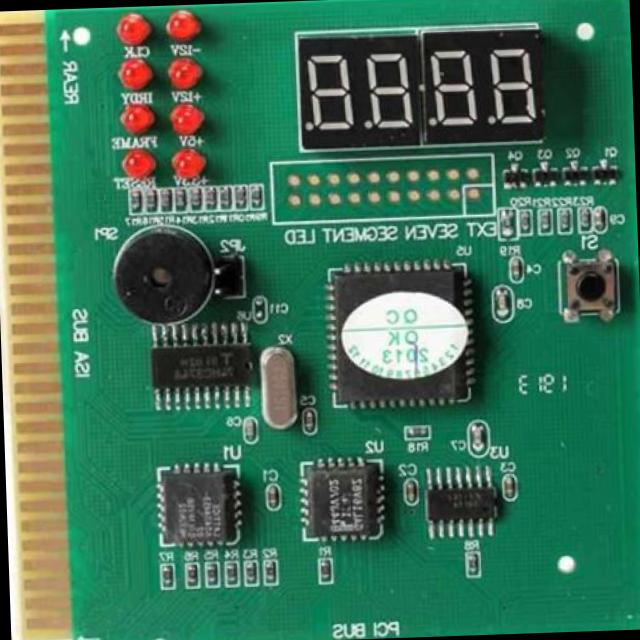IC: (328, 258, 470, 405), (147, 332, 249, 397), (303, 461, 382, 538), (157, 466, 237, 542), (426, 471, 496, 526)
LED: (418, 19, 546, 145), (294, 32, 423, 148), (116, 54, 153, 91), (119, 150, 158, 183), (170, 52, 202, 89), (116, 12, 152, 44), (166, 12, 201, 44), (170, 100, 203, 132), (122, 106, 151, 138), (172, 150, 202, 177)
capacitor: (496, 288, 510, 312), (510, 255, 524, 278), (244, 418, 258, 440), (472, 424, 483, 448), (268, 486, 278, 512), (304, 409, 314, 435), (592, 207, 605, 226), (503, 476, 512, 496), (406, 478, 414, 500)
resistor: (501, 212, 515, 235), (317, 560, 330, 584), (206, 562, 219, 586), (185, 564, 198, 588), (146, 186, 160, 208), (225, 563, 238, 585), (520, 210, 532, 233), (408, 422, 427, 436), (160, 567, 173, 587), (173, 188, 184, 210), (129, 190, 142, 208), (578, 205, 588, 228), (540, 209, 550, 232), (558, 209, 568, 231), (466, 552, 476, 574), (235, 184, 244, 206), (220, 188, 230, 207), (266, 560, 275, 580), (245, 564, 254, 584), (161, 188, 170, 208), (205, 187, 214, 206), (253, 186, 260, 208), (192, 188, 200, 206)
transistor: (592, 159, 618, 188), (563, 159, 587, 190), (532, 159, 558, 186), (504, 164, 525, 187)
